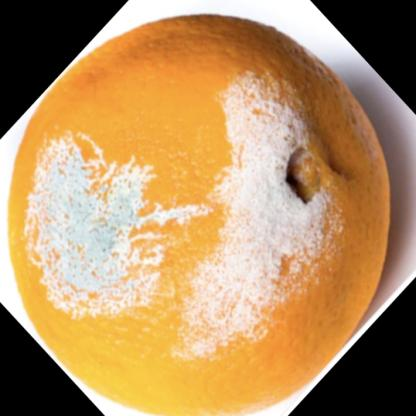rotten: (9, 15, 390, 416)
